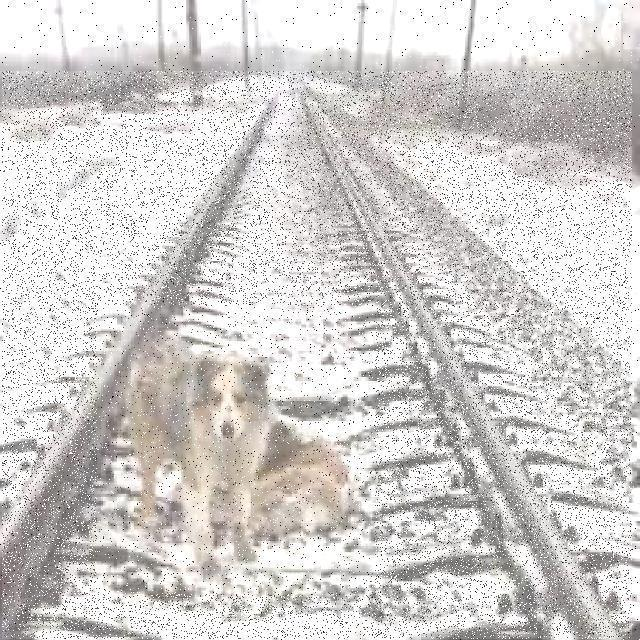rail: (4, 73, 633, 640)
